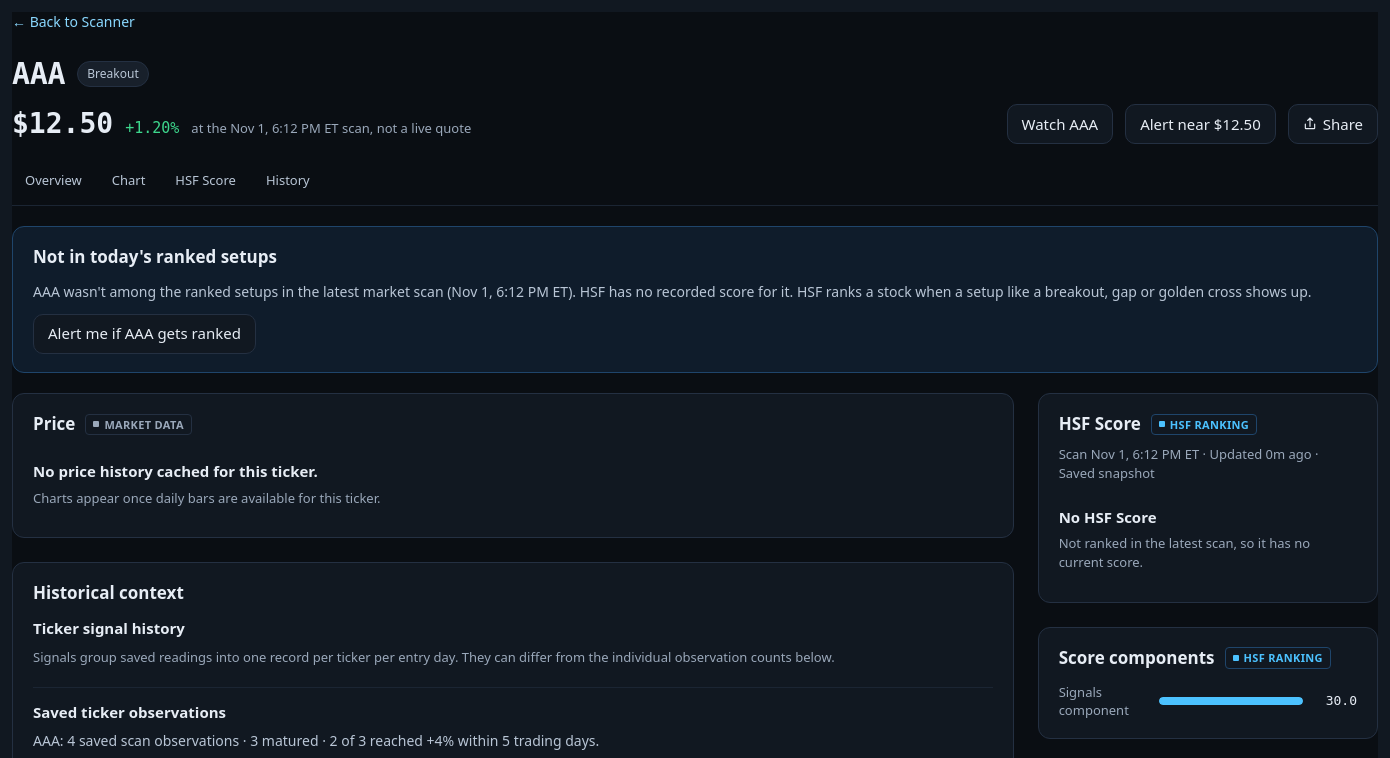
Test: Unranked stock page › adds a 'New HSF setup' alert in one tap
Click the button "Alert me if AAA gets ranked" at (144, 334), box [33,314,256,354]
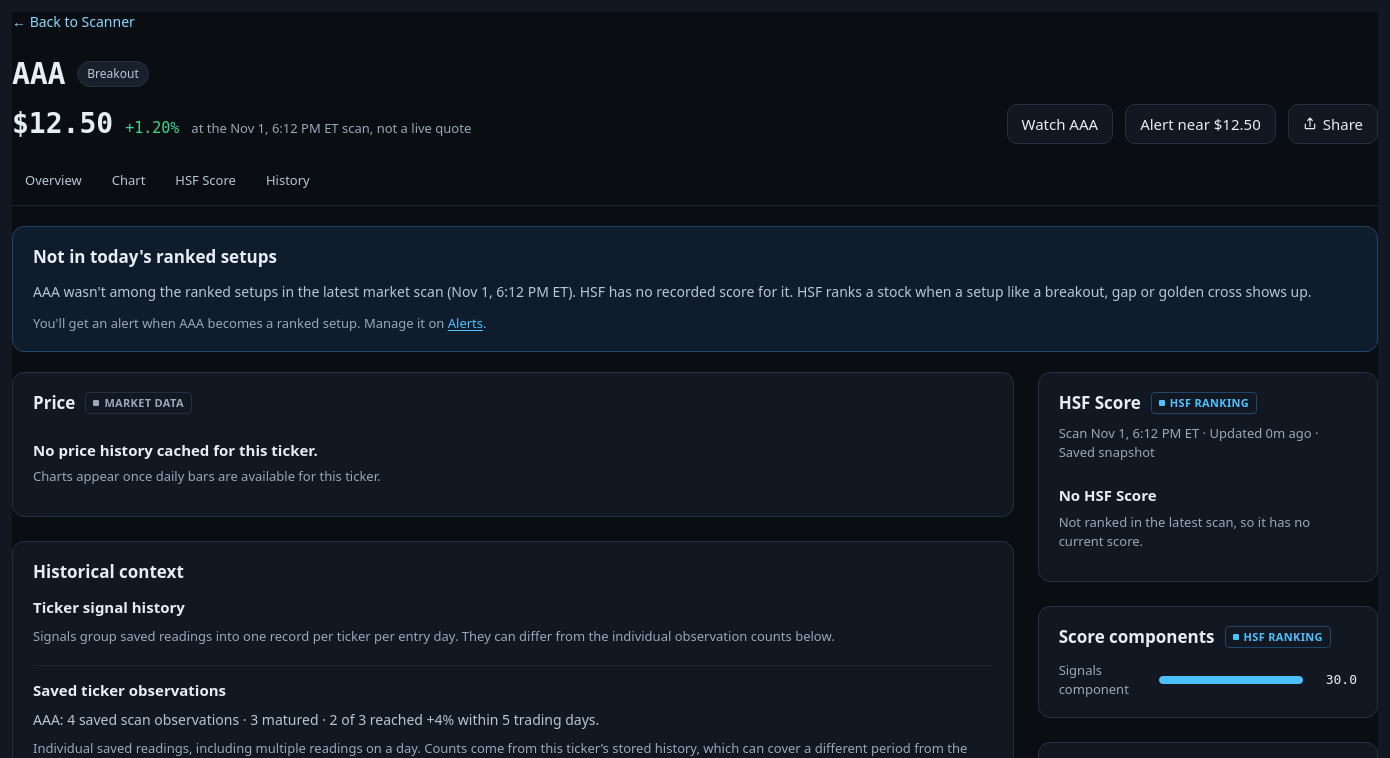
Now the text "You'll get an alert when AAA becomes a ranked setup. Manage it on Alerts ." is shown, box [33,314,486,333]
